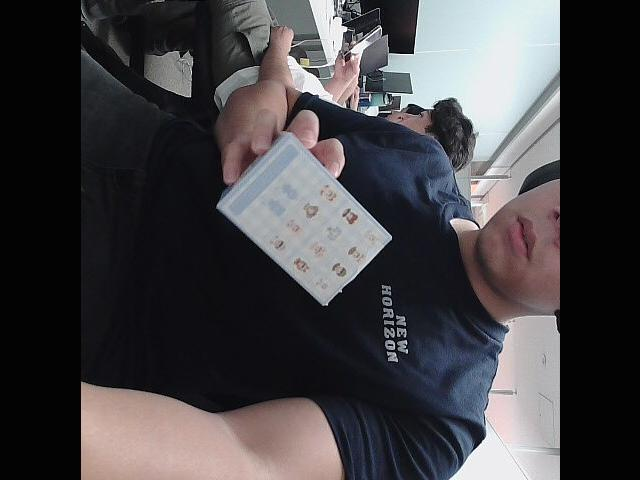Blind_box: (200, 132, 397, 310)
